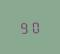nine: (19, 20, 29, 34)
zero: (30, 19, 40, 33)
